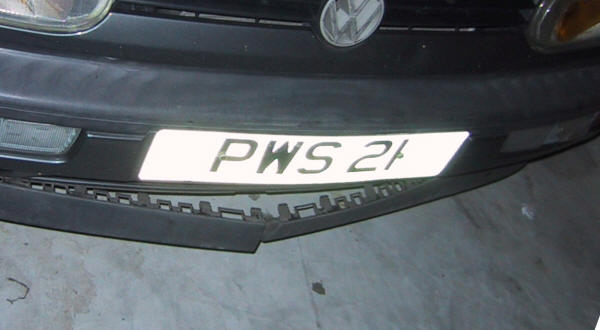license_plate: (136, 132, 472, 184)
